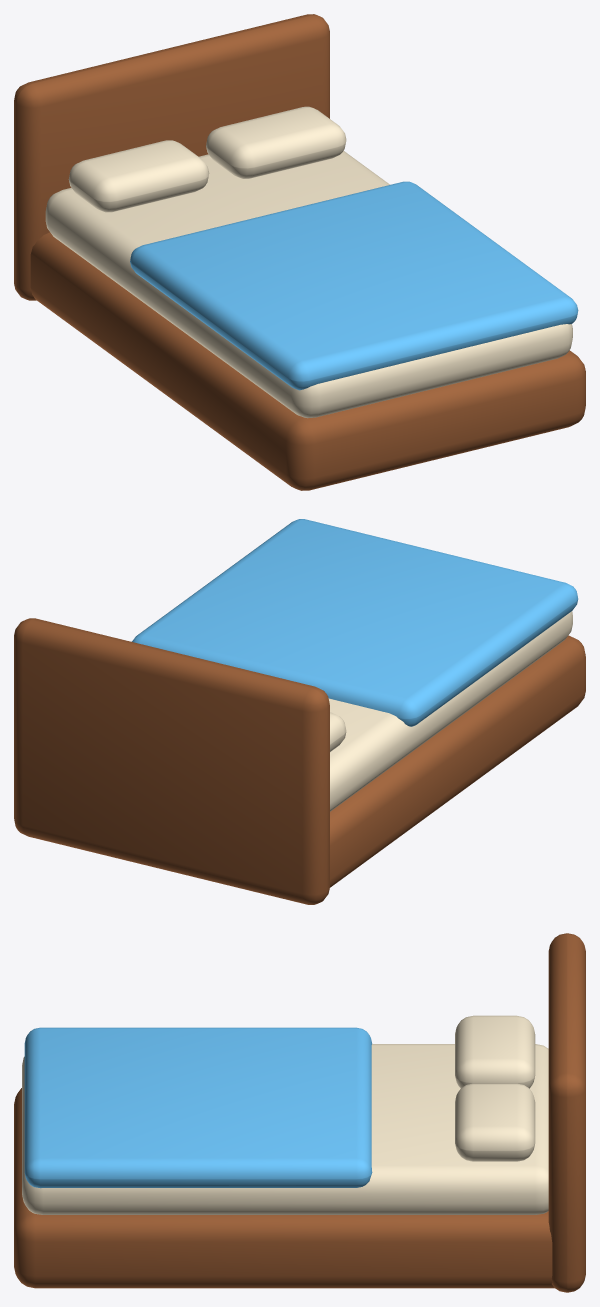
The model's file is bed.glb.
3 renders of one model, top to bottom at view 1: azimuth 30°, elevation 25°; view 2: azimuth 150°, elevation 25°; view 3: azimuth 270°, elevation 25°, orthographic.
Visible parts, largest first — view 1: Bed; view 2: Bed; view 3: Bed.
Part boxes in pixels (bbox=[...]): Bed: bbox=[14, 14, 585, 490]; Bed: bbox=[14, 519, 585, 904]; Bed: bbox=[14, 933, 585, 1292].
Bounding box in the file's own units: 1.36 × 0.9 × 2.14.
